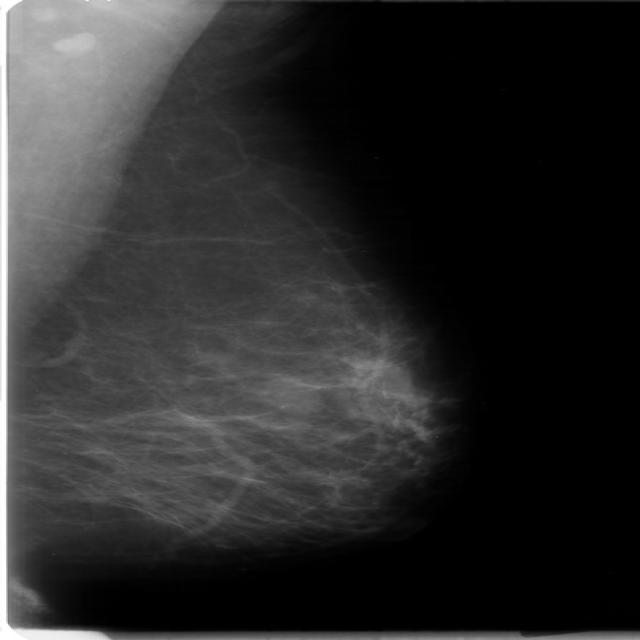tumour: (262, 376, 321, 412)
